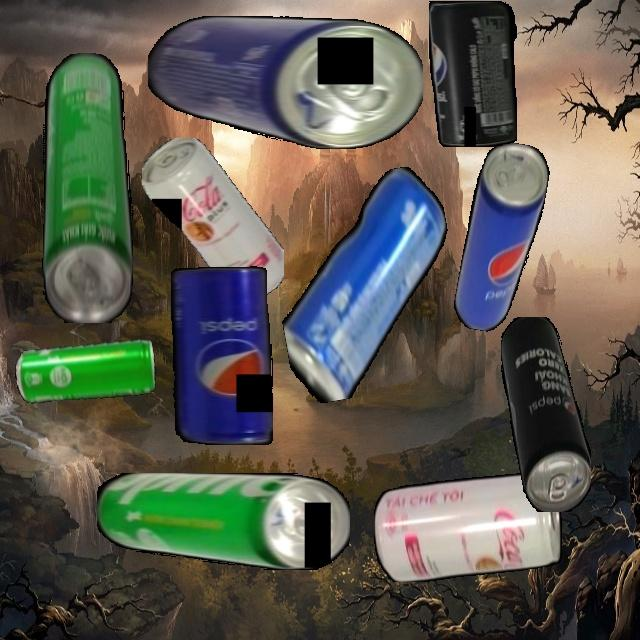debris: (260, 162, 473, 407), (147, 16, 423, 149), (41, 52, 133, 323), (96, 473, 350, 570), (141, 138, 284, 297), (373, 471, 562, 582), (451, 138, 553, 337), (170, 266, 273, 445), (500, 316, 591, 512), (429, 0, 517, 147), (12, 329, 160, 415)
